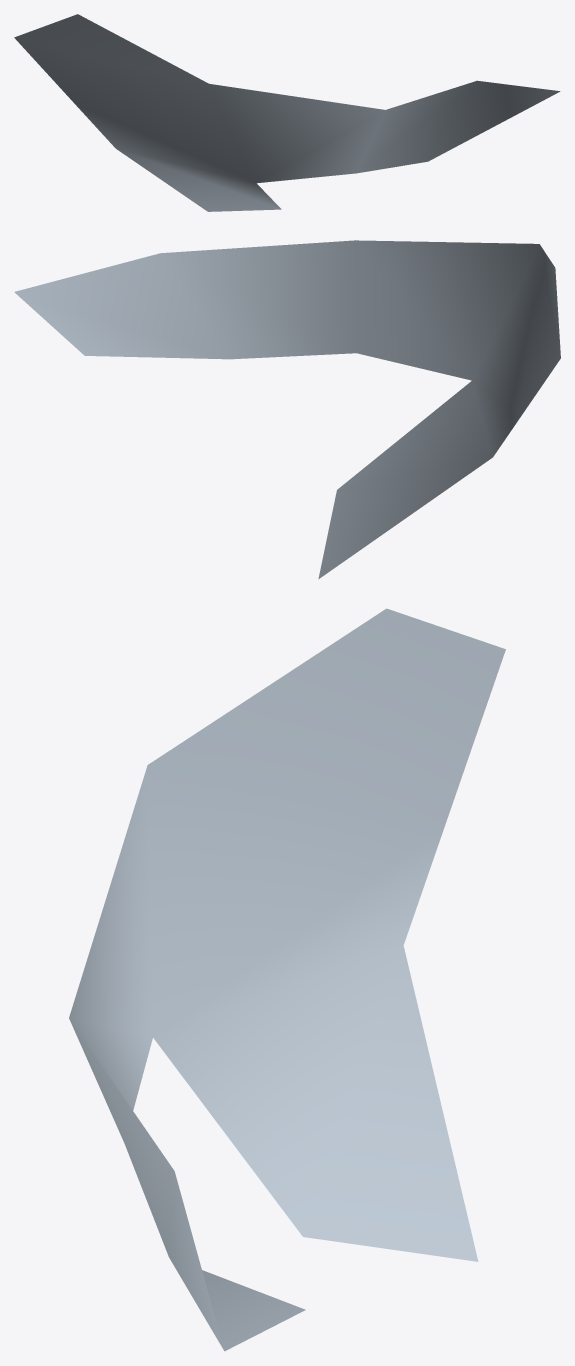
Rendered from ulnar-collateral-ligament-l.glb.
3 views of the same model, one above another, from view 1: azimuth 30°, elevation 25°; view 2: azimuth 150°, elevation 25°; view 3: azimuth 270°, elevation 25° (orthographic). The views are drawn at different scales.
Parts seen in each view (by area): view 1: Ulnar collateral ligament.l; view 2: Ulnar collateral ligament.l; view 3: Ulnar collateral ligament.l.
Boxes of the visible parts, left/top/right/bottom form: Ulnar collateral ligament.l: left=14, top=14, right=560, bottom=211; Ulnar collateral ligament.l: left=14, top=240, right=560, bottom=579; Ulnar collateral ligament.l: left=69, top=608, right=505, bottom=1351.
Bounding box in the file's own units: 0.0465 × 0.0235 × 0.0185.
